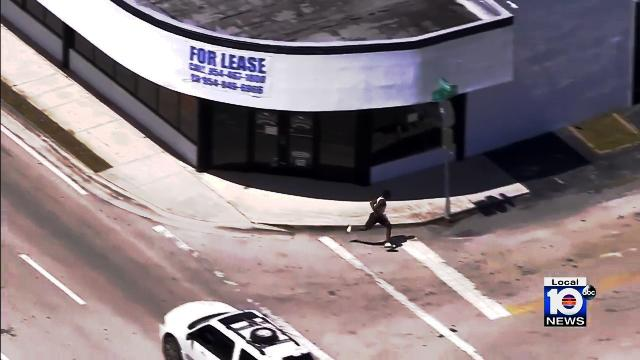berlari: (344, 187, 400, 254)
